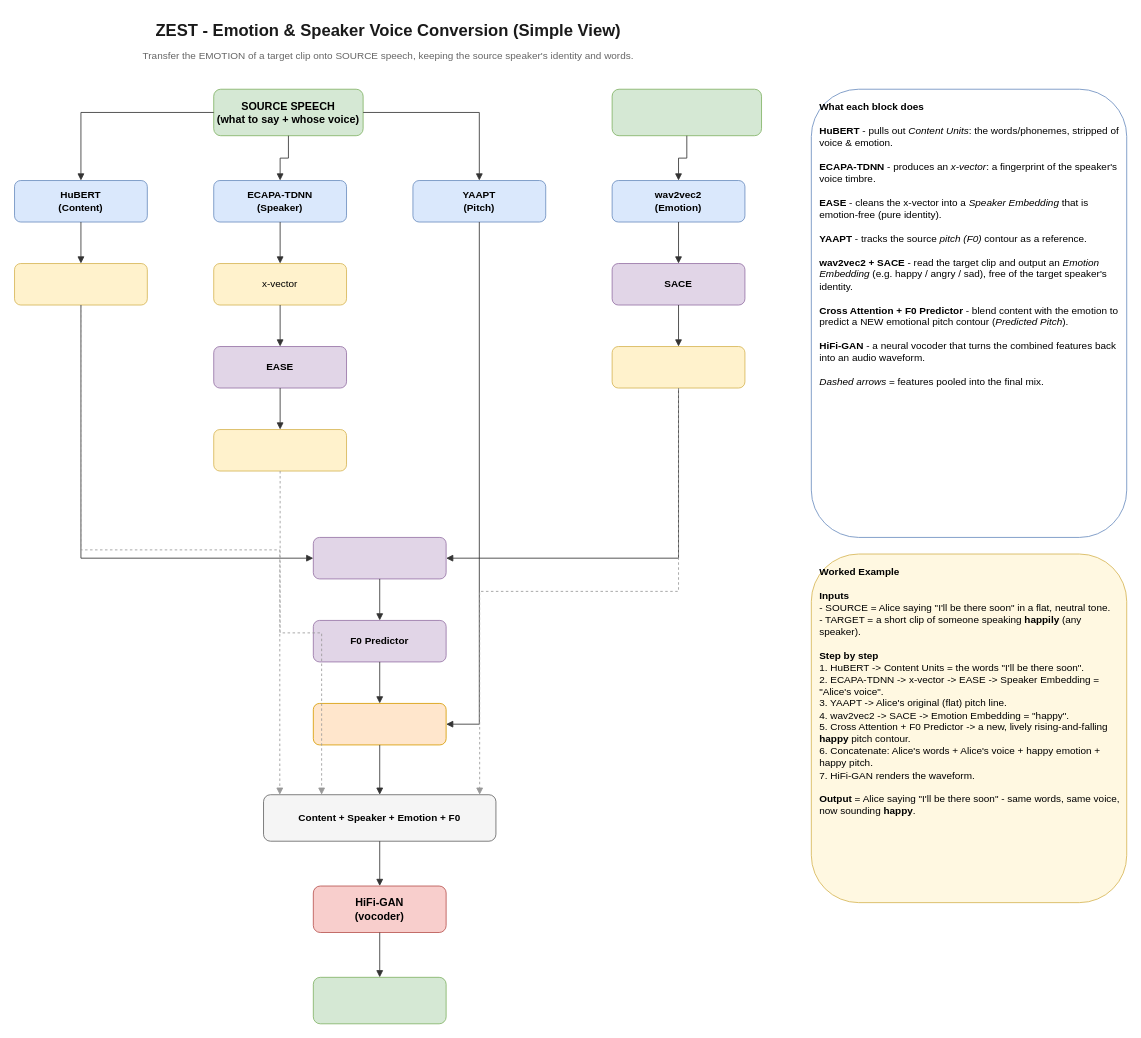
Some shapes in this 1141 by 1038 pixel diagram are drawn without their labels. Here are the shapes that lost their labels. From the top down, the centre of each, then its label:
[686,112]: TARGET SPEECH (emotion reference)
[80,284]: Content Units
[678,367]: Emotion Embedding
[280,450]: Speaker Embedding
[379,558]: Cross Attention
[379,724]: Predicted Pitch (F0)
[379,1000]: Converted Speech
